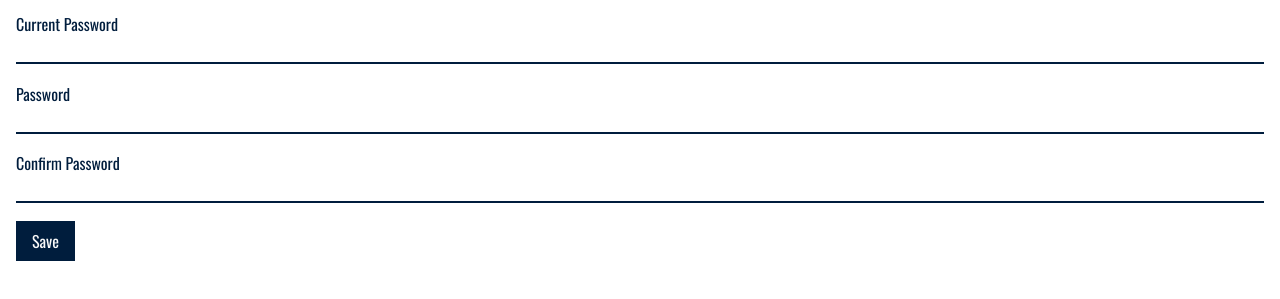
Edit User Password Form › should display an error message for a current password longer than 32 characters
The width and height of the screenshot is (1280, 299).
Type "Pa$$w0rd1Pa$$w0rd1Pa$$w0rd1Pa$$w0rd1" into the password field labelled "Current Password" at (640, 51), box [16,37,1264,64]
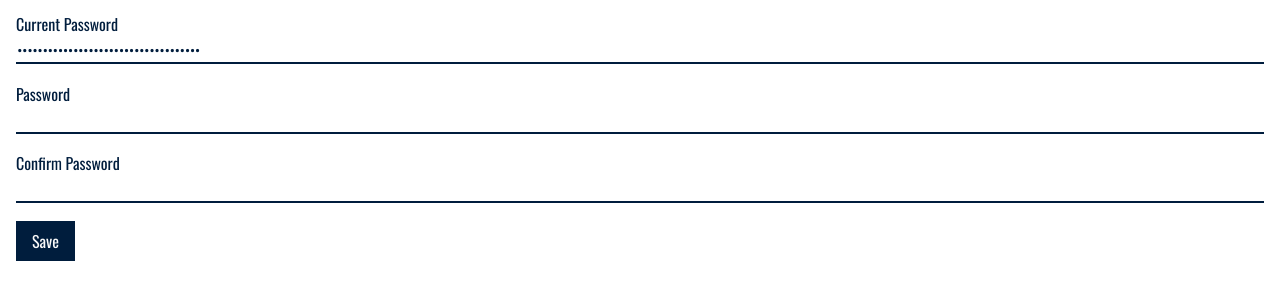
Type "Pa$$w0rd" into the password field labelled "Password" at (640, 120), box [16,107,1264,134]
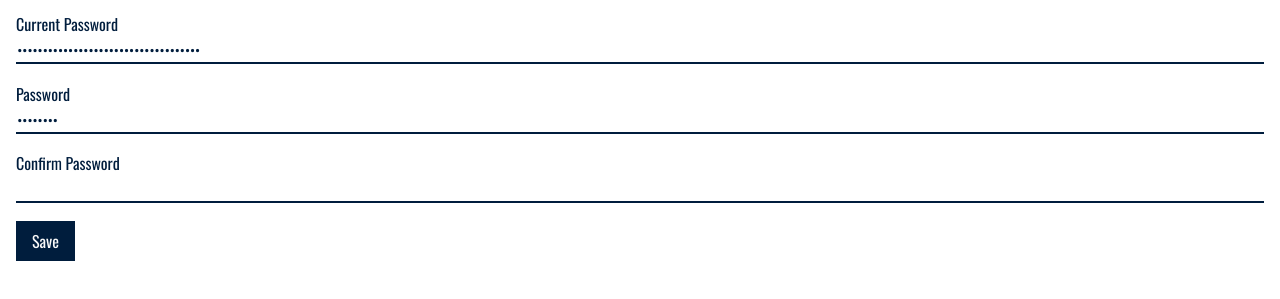
Type "Pa$$w0rd" into the password field labelled "Confirm Password" at (640, 190), box [16,176,1264,203]
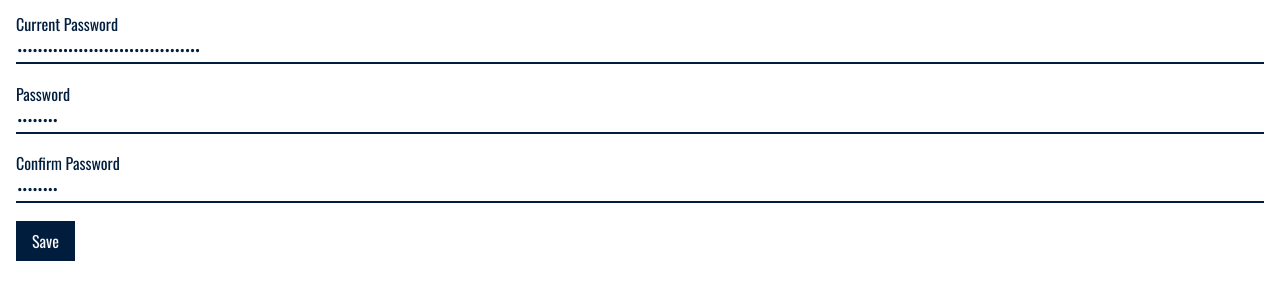
Click the button "Save" at (46, 240), box [16,220,75,260]
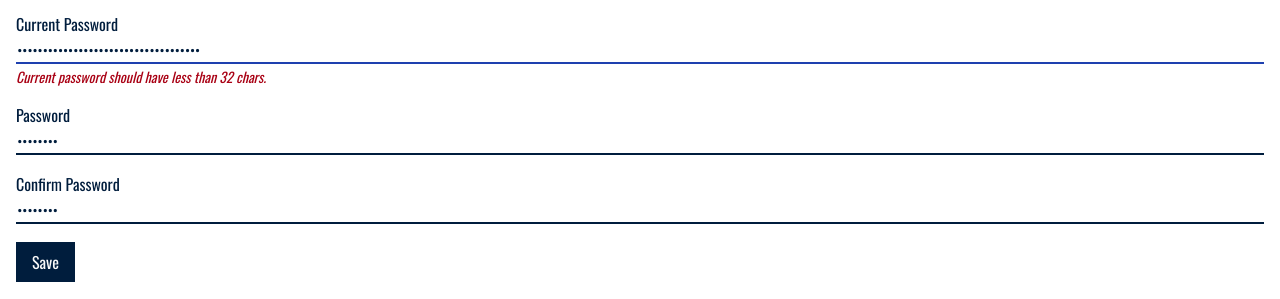
Expected: the text "Current password should have less than 32 chars." is shown, [16,66,266,86]
